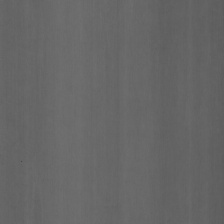inclusion: (19, 158, 22, 165)
